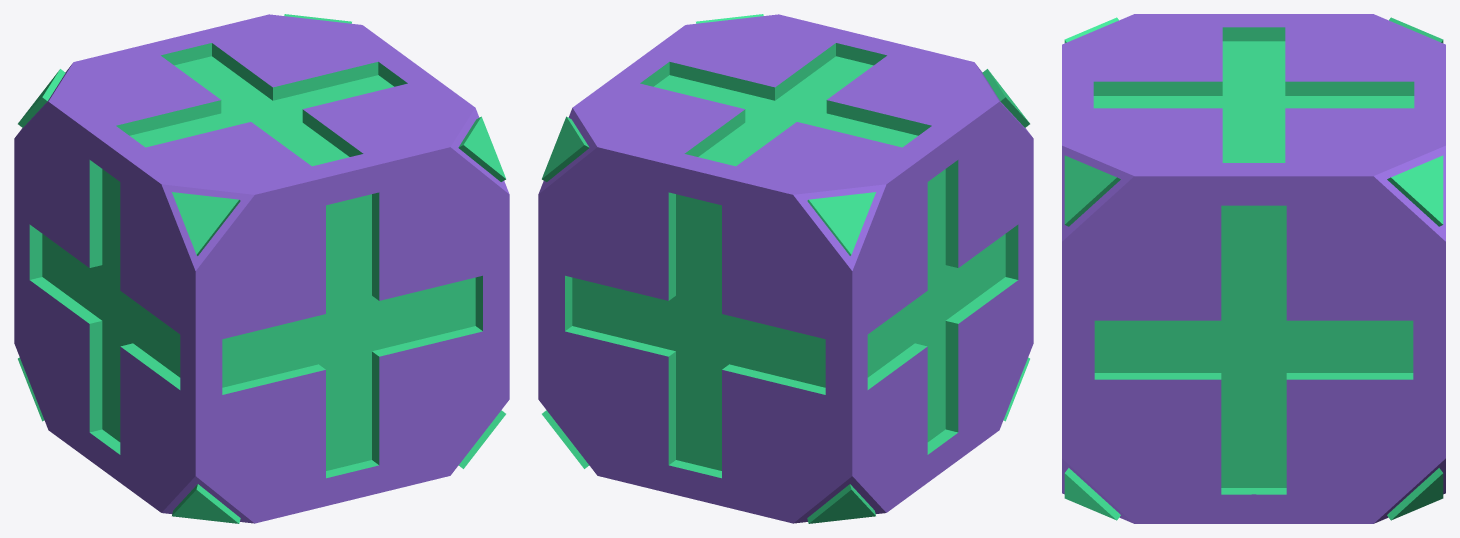
Rendered from HealthPack.fbx.
3 renders of one model, left to right at view 1: azimuth 30°, elevation 25°; view 2: azimuth 150°, elevation 25°; view 3: azimuth 270°, elevation 25°, orthographic. The views are drawn at different scales.
Visible parts, largest first — view 1: Health Pack; view 2: Health Pack; view 3: Health Pack.
Part boxes in pixels (<box>): Health Pack: <box>14,14,509,523</box>; Health Pack: <box>538,14,1033,523</box>; Health Pack: <box>1062,14,1445,523</box>.
Bounding box in the file's own units: 200 × 200 × 200.
